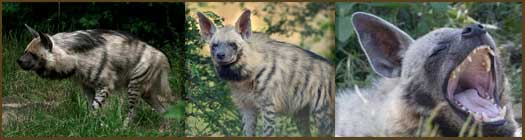hyena: (334, 13, 520, 140), (15, 22, 177, 135), (197, 7, 328, 140)
